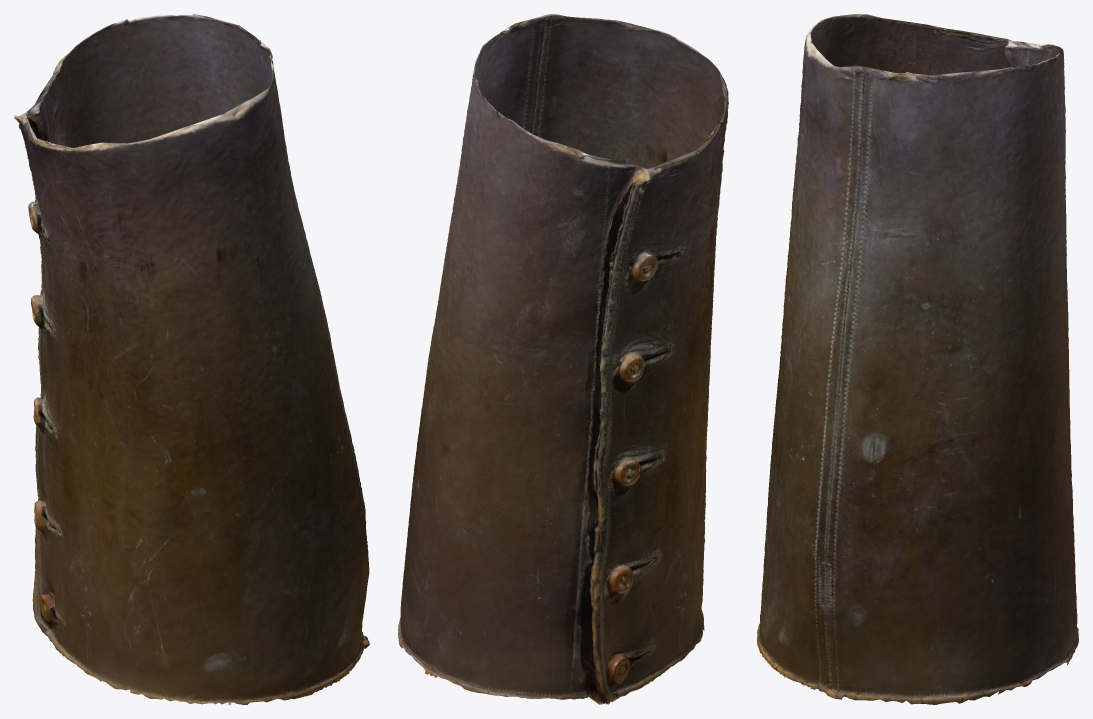
The picture shows the model from 3 angles, left to right: view 1: azimuth 30°, elevation 25°; view 2: azimuth 150°, elevation 25°; view 3: azimuth 270°, elevation 25°; orthographic projection.
Visible parts, largest first — view 1: default_textured_0_0; view 2: default_textured_0_0; view 3: default_textured_0_0.
Boxes of the visible parts, <box> form: default_textured_0_0: <box>14,14,369,704</box>; default_textured_0_0: <box>398,14,728,704</box>; default_textured_0_0: <box>757,14,1078,704</box>.
Bounding box in the file's own units: 0.0126 × 0.0244 × 0.0119.
1 material, 1 textured.
